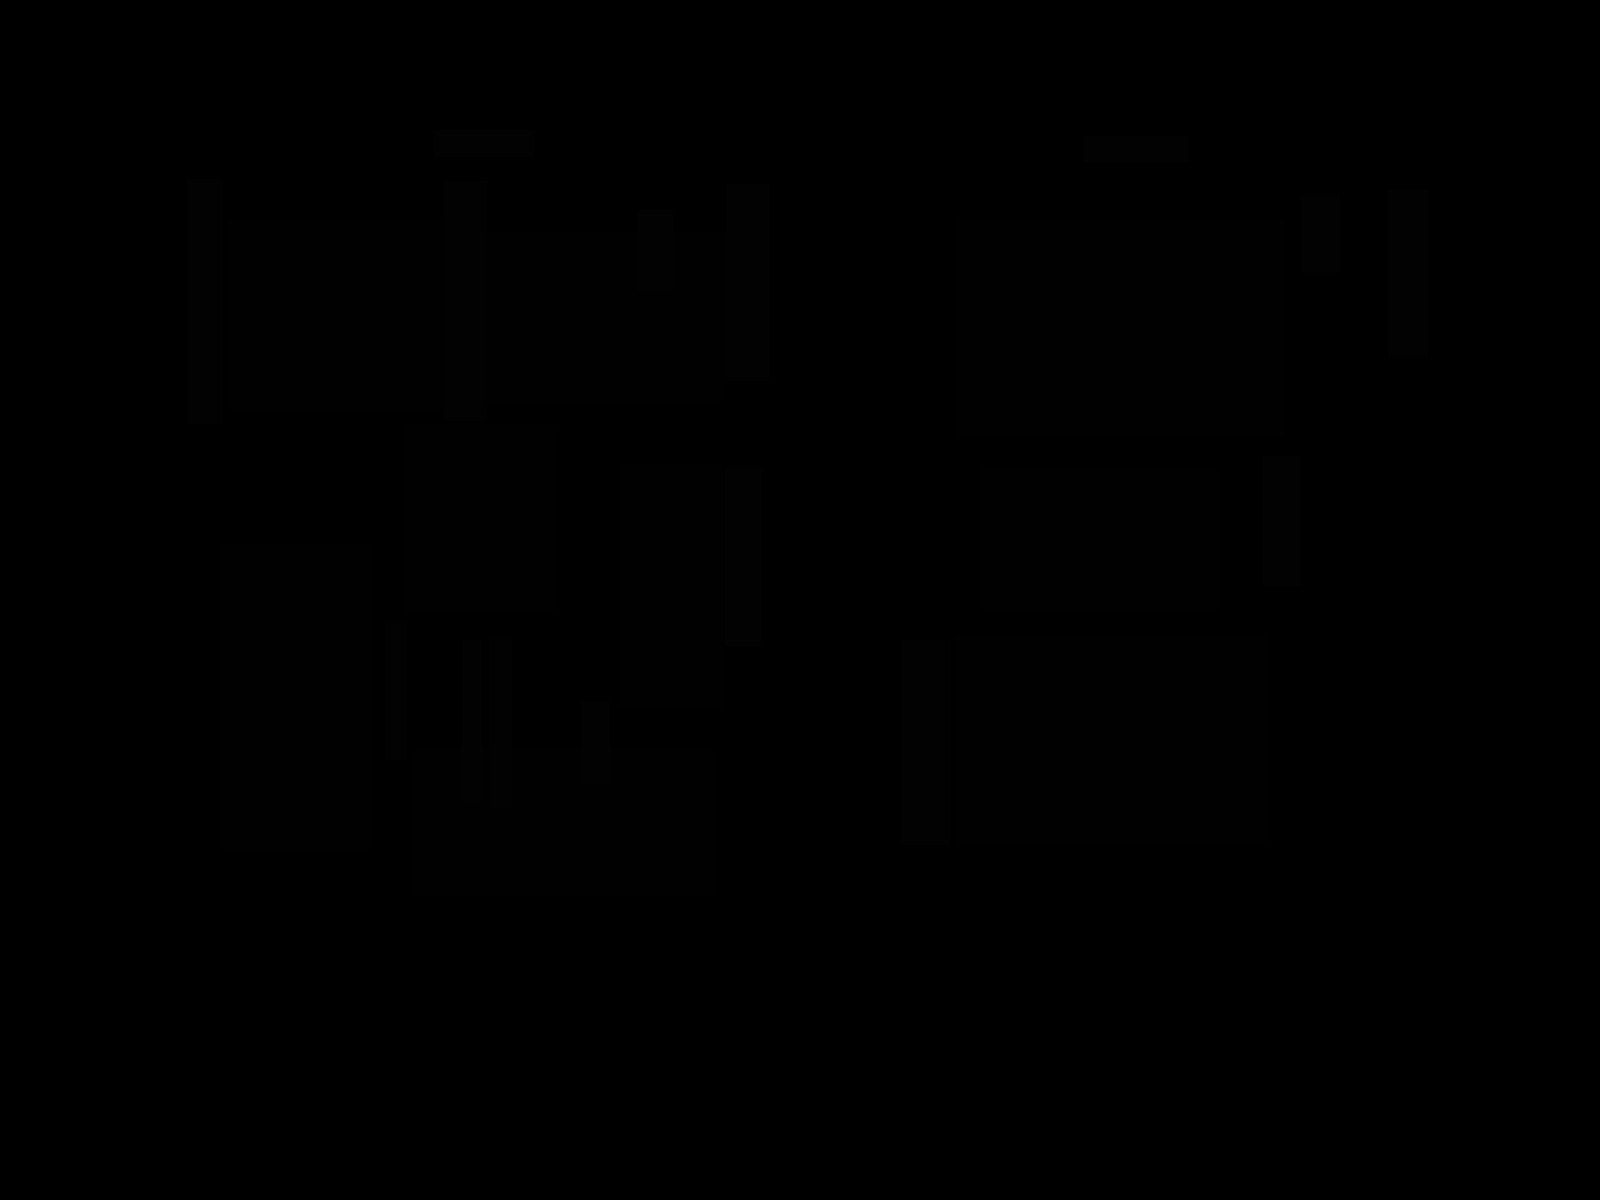1_overall: (84, 57, 1529, 1002)
3_typography: (443, 182, 488, 421), (901, 640, 950, 845), (186, 179, 223, 424), (727, 184, 770, 381), (724, 468, 762, 645), (1388, 190, 1427, 355), (1264, 456, 1301, 586), (489, 639, 511, 809), (462, 640, 483, 804), (1301, 195, 1340, 274), (637, 211, 674, 291), (386, 623, 407, 760), (1083, 136, 1189, 163), (433, 130, 534, 158), (581, 701, 610, 785)
4_illustration: (957, 219, 1284, 437), (955, 635, 1271, 846), (222, 543, 369, 852), (414, 750, 718, 896), (483, 233, 727, 403), (227, 221, 445, 410), (980, 468, 1218, 611), (406, 425, 559, 614), (617, 463, 723, 708)
